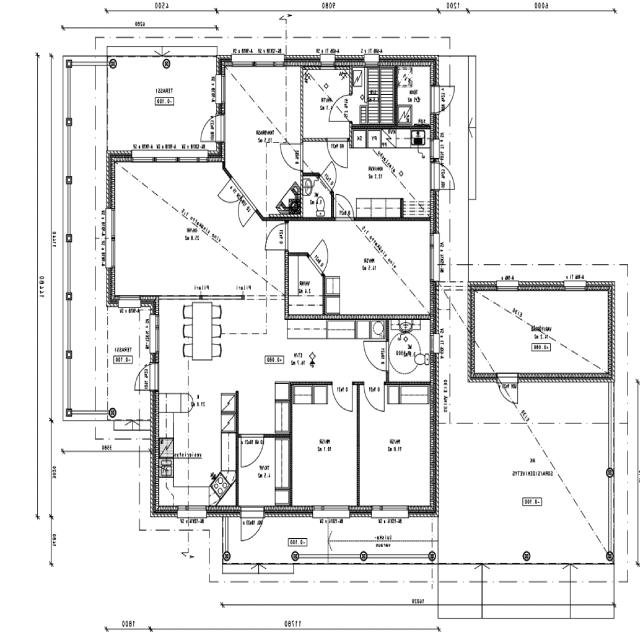door: (308, 239, 336, 275), (230, 193, 257, 227), (218, 177, 244, 211), (242, 506, 264, 546), (195, 115, 225, 142), (241, 434, 264, 467), (130, 364, 159, 390), (430, 163, 459, 189), (430, 86, 459, 112), (318, 162, 342, 192), (364, 341, 388, 371), (264, 223, 288, 250), (498, 374, 517, 408), (327, 138, 348, 168), (280, 144, 304, 170), (364, 382, 384, 412), (332, 382, 352, 412), (330, 95, 352, 122), (336, 194, 354, 221)
